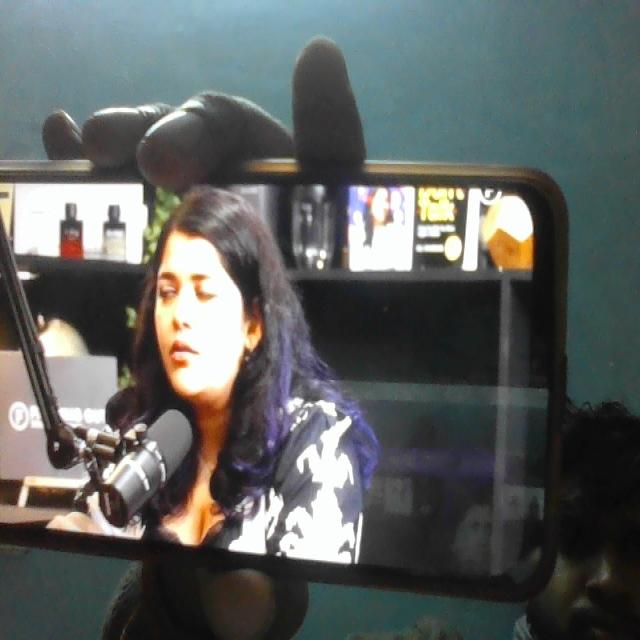fake: (143, 160, 272, 404)
